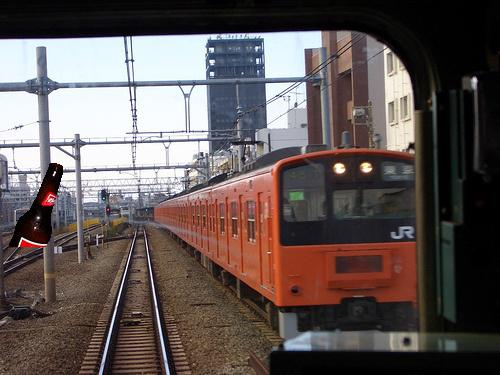tampered: (10, 164, 63, 247)
